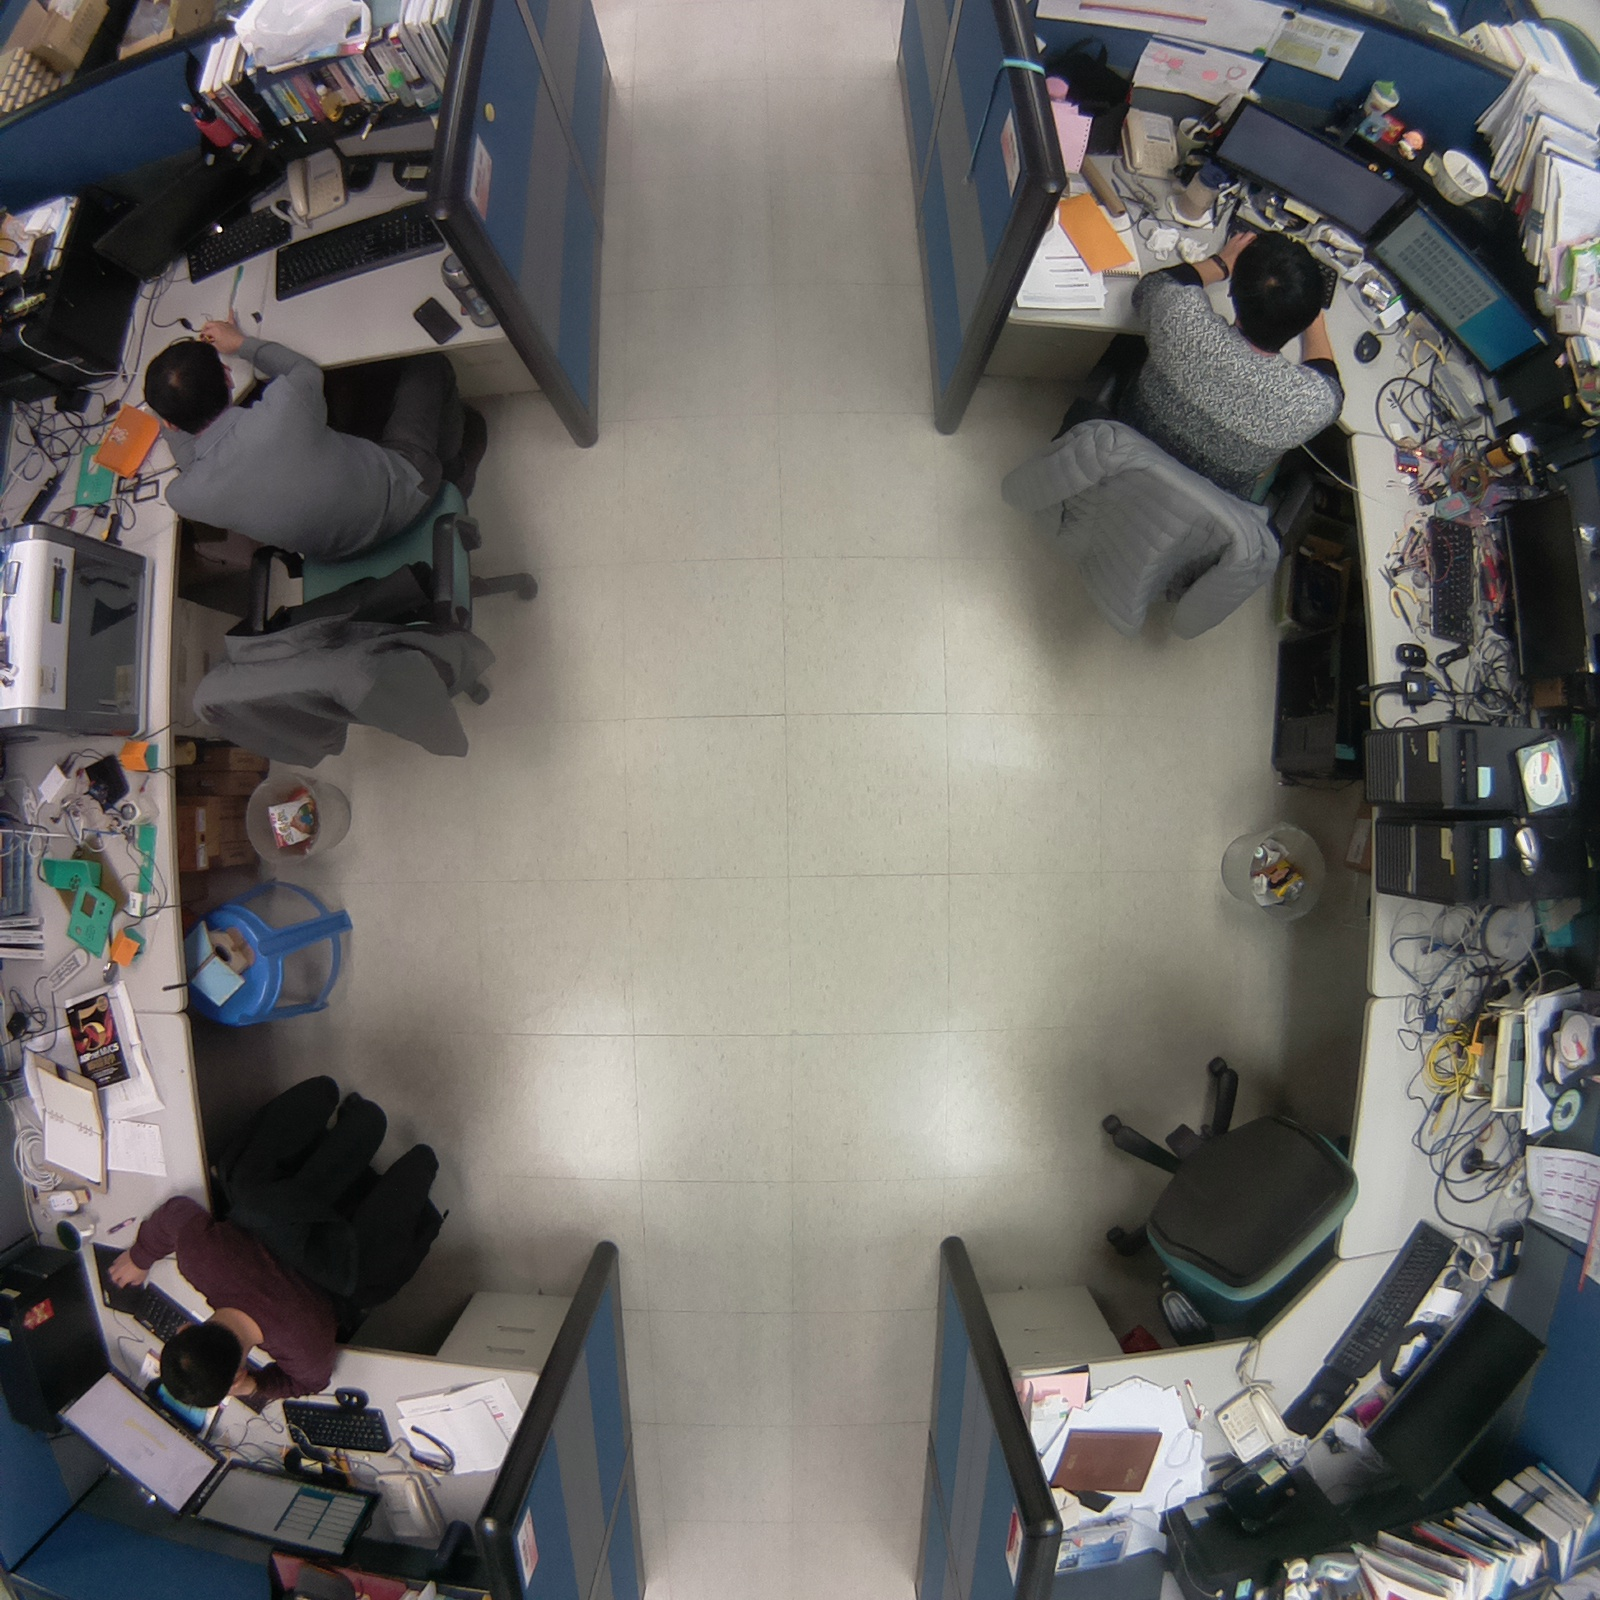chair: (1078, 1033, 1374, 1368)
sitting: (114, 308, 557, 791), (977, 212, 1370, 667), (70, 1049, 466, 1429)
